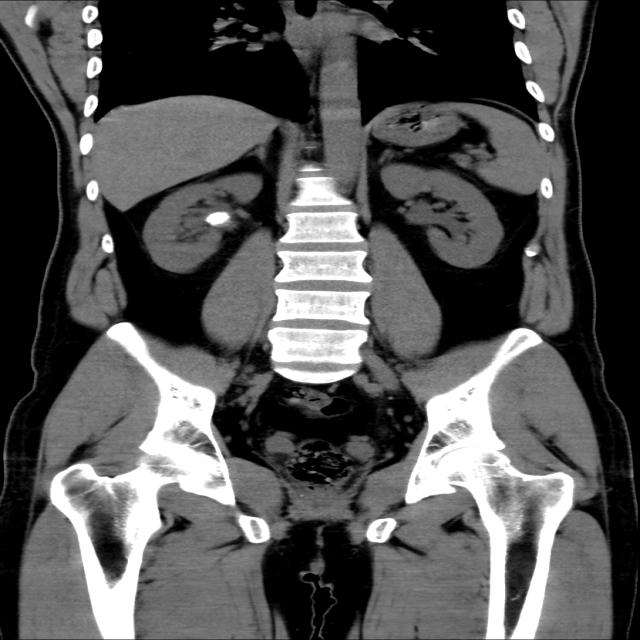kidneystone: (203, 211, 233, 228)
